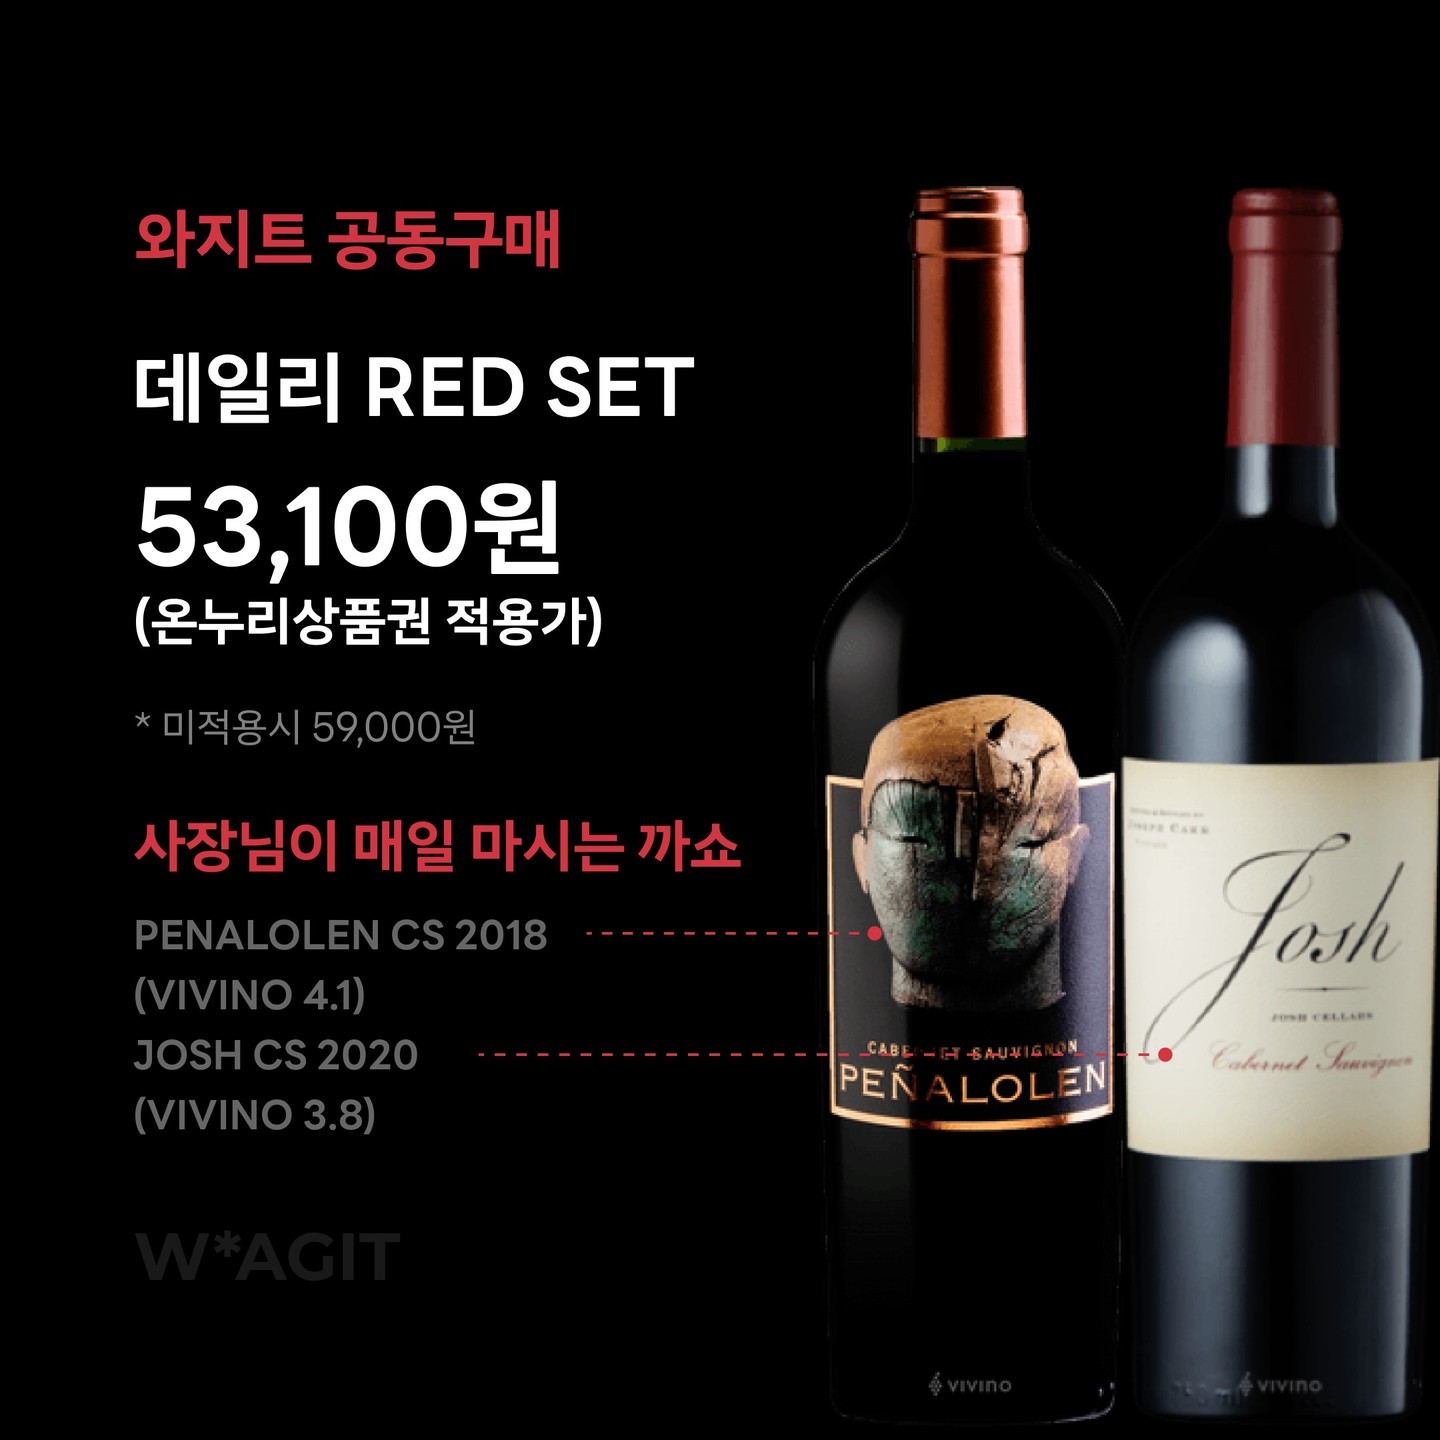alcohol: (1100, 178, 1440, 1440), (802, 173, 1139, 1440)
